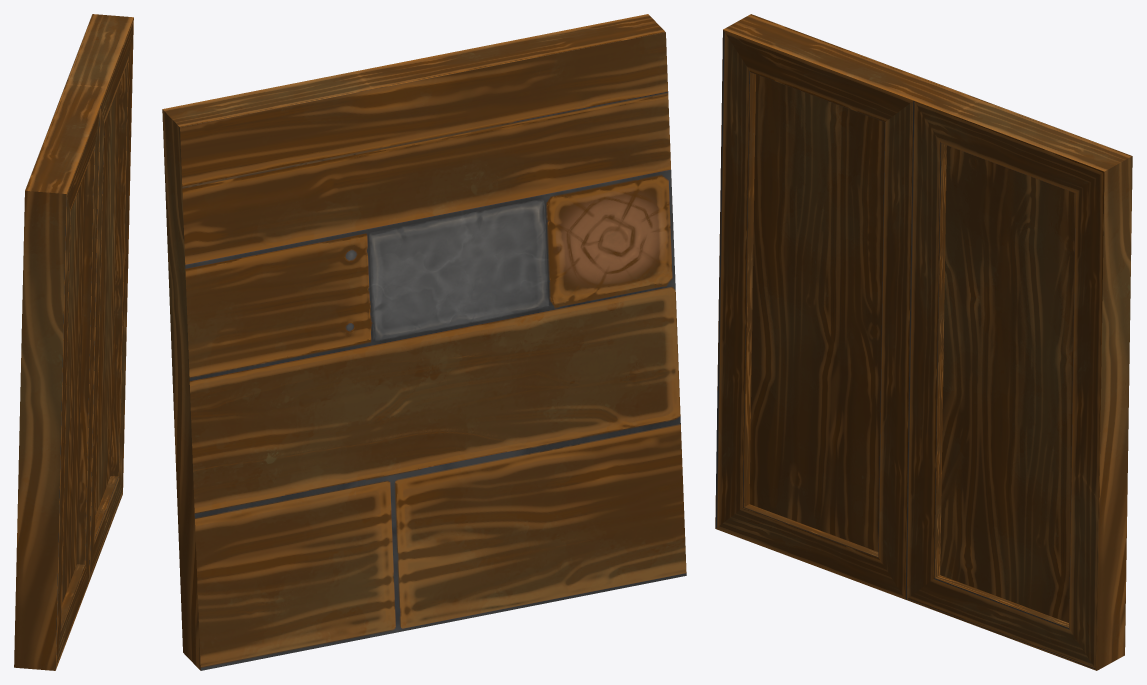
3 renders of one model, left to right at view 1: azimuth 30°, elevation 25°; view 2: azimuth 150°, elevation 25°; view 3: azimuth 270°, elevation 25°, orthographic. The views are drawn at different scales.
Visible parts, largest first — view 1: Cube.2093; view 2: Cube.2093; view 3: Cube.2093.
Boxes of the visible parts, x1,y1,x2,y2 form: Cube.2093: (14, 14, 133, 670); Cube.2093: (162, 14, 686, 670); Cube.2093: (715, 14, 1132, 670).
Bounding box in the file's own units: 175 × 281 × 204.
1 material, 1 textured.
